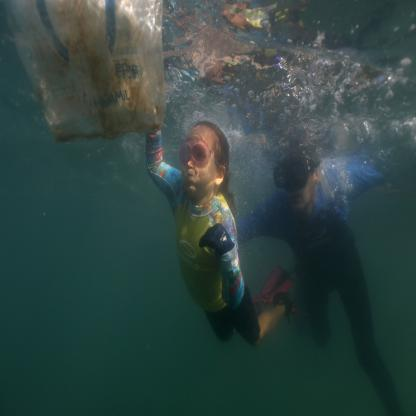waste: (3, 0, 168, 137)
